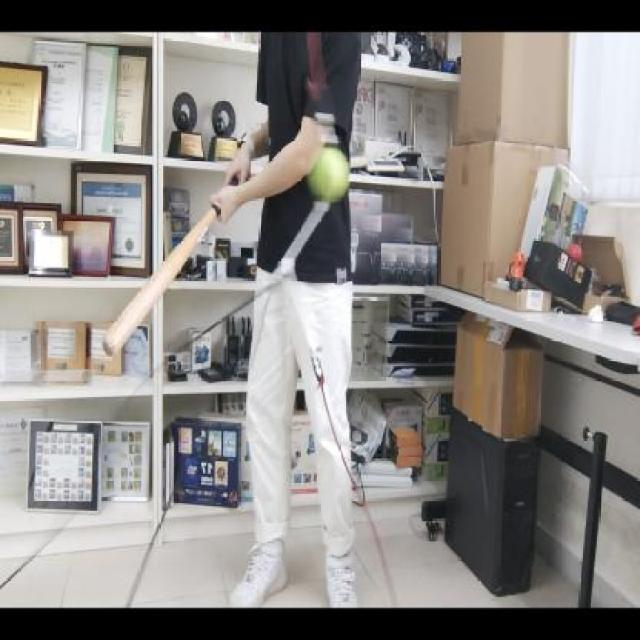baseball: (307, 144, 351, 204)
